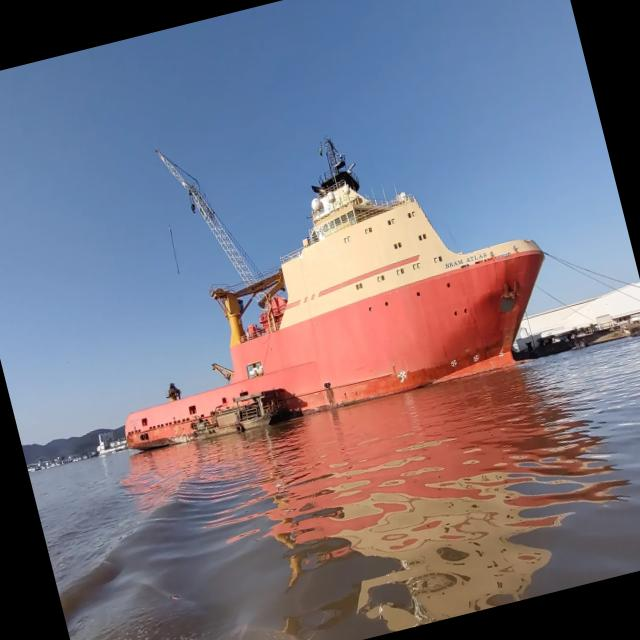Offshore: (125, 139, 543, 449)
